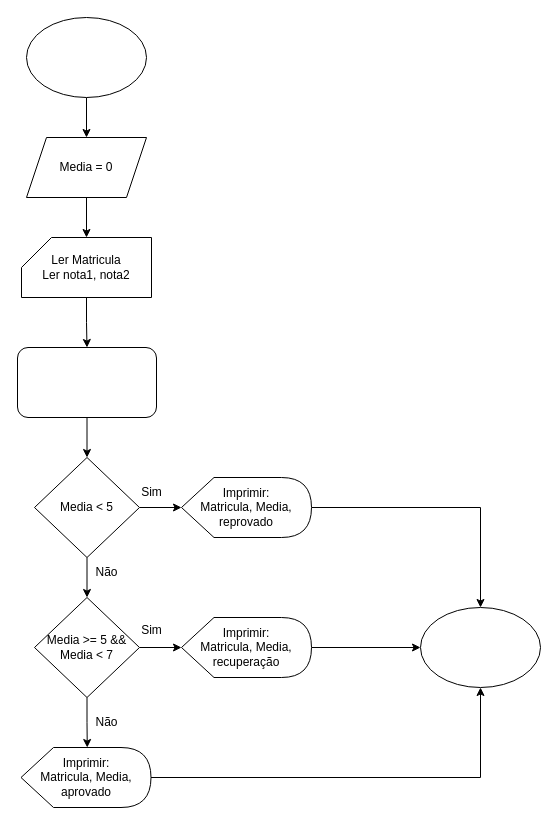
Some shapes in this 558 by 825 pixel diagram are drawn without their labels. The shapes that lost their labels are listed below. From the top down, each one's centre as x and y in pixels, then its label:
At point 86,57: "Inicio".
At point 86,382: "Media = (nota1 + nota2)/2".
At point 480,647: "Fim".
